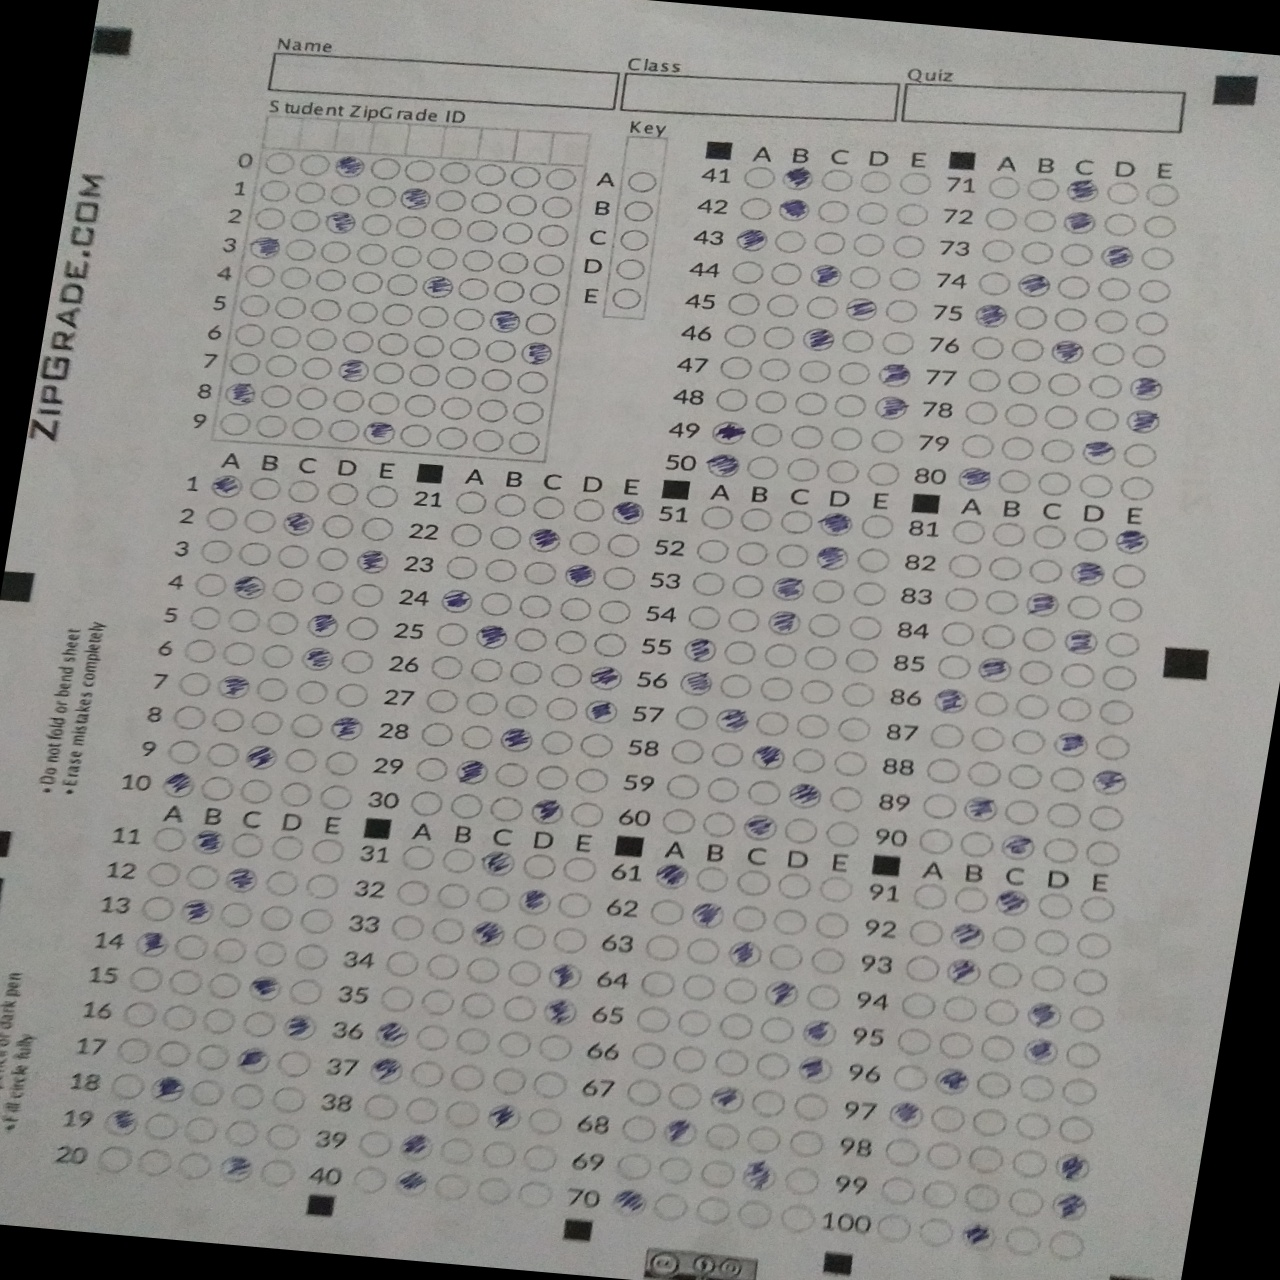not-c: (956, 1178, 1003, 1216), (620, 1073, 667, 1109), (610, 1148, 656, 1184), (999, 1223, 1046, 1259), (903, 915, 952, 949), (1063, 1002, 1114, 1035), (1001, 1184, 1048, 1219), (878, 1133, 925, 1169), (933, 1026, 980, 1061), (914, 1212, 958, 1250), (103, 1065, 149, 1101), (802, 979, 847, 1014), (890, 1023, 935, 1058), (1080, 835, 1125, 870), (468, 1173, 518, 1205), (433, 1135, 481, 1167), (782, 1126, 830, 1159), (774, 1201, 822, 1234), (872, 1207, 915, 1244), (93, 1141, 137, 1176), (874, 1172, 919, 1207), (440, 1097, 485, 1131), (747, 1085, 792, 1119), (1043, 1227, 1089, 1261), (513, 1177, 560, 1210), (1061, 1039, 1108, 1071), (897, 949, 944, 982), (109, 1032, 154, 1065), (346, 1160, 390, 1194), (642, 894, 687, 928), (1053, 1111, 1097, 1145), (1009, 1107, 1054, 1141), (1006, 1148, 1051, 1180), (966, 1105, 1012, 1138), (1068, 966, 1114, 999), (1027, 925, 1073, 958), (1092, 695, 1138, 728), (918, 1175, 959, 1211), (663, 734, 710, 765), (781, 1160, 823, 1196), (273, 1046, 316, 1080), (352, 1126, 395, 1160), (750, 1048, 794, 1082), (696, 1157, 740, 1191), (979, 1030, 1022, 1064), (518, 1141, 563, 1173), (824, 781, 869, 813), (938, 990, 982, 1023), (941, 550, 986, 583), (843, 611, 888, 642), (884, 1061, 930, 1092), (151, 1036, 193, 1070), (653, 1153, 695, 1187), (1080, 403, 1126, 434), (238, 1006, 281, 1039), (497, 992, 540, 1024), (358, 1088, 401, 1121), (634, 965, 678, 998), (756, 1012, 799, 1044), (626, 1039, 669, 1071), (733, 1197, 776, 1230), (470, 881, 515, 913), (896, 988, 940, 1020), (912, 824, 956, 856), (919, 753, 964, 784), (953, 430, 998, 462), (268, 1081, 309, 1115), (906, 880, 952, 911), (492, 1027, 535, 1060), (399, 1092, 441, 1125), (661, 768, 703, 801), (649, 1190, 692, 1223), (1058, 1074, 1101, 1107), (1051, 692, 1094, 724), (186, 1076, 230, 1108), (395, 842, 438, 873), (384, 911, 428, 942), (374, 981, 417, 1013), (450, 1024, 493, 1056), (524, 1104, 567, 1136), (709, 381, 753, 413), (728, 903, 771, 934), (769, 906, 812, 938), (615, 1112, 659, 1144), (730, 869, 775, 899), (944, 516, 988, 546), (791, 1090, 831, 1124), (165, 965, 206, 998), (192, 1039, 233, 1071), (257, 1156, 298, 1189), (673, 1005, 714, 1037), (922, 1138, 964, 1171), (877, 295, 922, 325), (261, 1121, 304, 1152), (549, 925, 591, 956), (702, 772, 744, 804), (656, 803, 699, 835), (821, 817, 863, 849), (668, 1042, 710, 1074), (692, 1194, 734, 1226), (964, 1143, 1006, 1175), (926, 1102, 968, 1133), (1015, 1073, 1057, 1104), (954, 829, 996, 860), (924, 719, 966, 750), (1092, 731, 1135, 763), (1016, 622, 1058, 654), (1128, 340, 1170, 372), (430, 1171, 474, 1201), (835, 327, 878, 358), (1101, 629, 1144, 660), (975, 620, 1019, 651), (1069, 524, 1112, 554), (1033, 467, 1076, 497), (229, 1080, 268, 1112), (222, 1117, 261, 1150), (712, 1046, 751, 1078), (965, 724, 1009, 754), (284, 975, 325, 1007), (120, 996, 161, 1028), (181, 1114, 222, 1145), (135, 1146, 176, 1178), (173, 1150, 215, 1182), (857, 510, 898, 542), (772, 870, 813, 901), (813, 910, 855, 941), (918, 789, 959, 821), (1002, 796, 1043, 828), (1043, 799, 1084, 831), (934, 651, 975, 682), (937, 617, 978, 648), (197, 1005, 239, 1035), (535, 1032, 577, 1062), (489, 1065, 531, 1096), (640, 932, 682, 962), (720, 975, 762, 1006), (702, 1121, 744, 1151), (742, 1124, 784, 1155), (1073, 930, 1115, 960), (1002, 760, 1044, 790), (1063, 591, 1105, 621), (965, 333, 1007, 363), (1107, 561, 1150, 591), (971, 267, 1014, 297), (666, 1080, 704, 1112), (143, 857, 183, 888), (141, 1109, 181, 1141), (382, 946, 422, 978), (418, 986, 458, 1017), (413, 1021, 452, 1053), (842, 644, 881, 675), (679, 971, 719, 1002), (716, 1009, 756, 1041), (988, 922, 1028, 954), (952, 884, 992, 915), (302, 871, 343, 901), (159, 1002, 200, 1033), (503, 958, 544, 988), (448, 1062, 489, 1092), (479, 1139, 520, 1170), (715, 350, 756, 381), (790, 388, 831, 418), (787, 421, 828, 451), (779, 815, 821, 845), (690, 864, 731, 894), (765, 941, 806, 972), (982, 995, 1023, 1026), (983, 960, 1024, 990), (1034, 891, 1075, 921), (1077, 893, 1118, 924), (964, 757, 1005, 788), (1014, 658, 1055, 688), (1029, 519, 1070, 550), (998, 433, 1039, 463), (1036, 436, 1077, 467), (1000, 399, 1041, 429), (457, 990, 499, 1020), (529, 1070, 571, 1099), (863, 459, 905, 489), (806, 945, 849, 974), (681, 935, 723, 965), (1046, 764, 1088, 794), (1056, 660, 1098, 689), (1098, 662, 1141, 692), (939, 584, 981, 613), (172, 930, 210, 962), (554, 888, 593, 920), (462, 953, 501, 985), (634, 1003, 673, 1035), (1051, 304, 1090, 335), (1104, 595, 1148, 624), (263, 866, 302, 897), (434, 879, 474, 910), (407, 1058, 447, 1089), (822, 455, 862, 485), (782, 452, 822, 483), (696, 501, 736, 531), (1085, 804, 1125, 835), (971, 688, 1010, 719), (1088, 338, 1128, 368), (258, 147, 299, 176), (268, 832, 309, 862), (560, 855, 601, 884), (756, 354, 797, 383), (829, 748, 870, 777), (743, 777, 784, 806), (816, 873, 857, 903), (973, 1070, 1014, 1099), (1024, 557, 1065, 586), (1005, 367, 1046, 396), (423, 949, 461, 981), (737, 162, 779, 190), (1084, 372, 1126, 400), (1142, 181, 1184, 209), (445, 333, 484, 363), (205, 969, 244, 1000), (892, 198, 931, 229), (708, 737, 747, 768), (700, 808, 738, 838), (1041, 836, 1080, 866), (1041, 400, 1080, 430), (1091, 306, 1130, 336), (1097, 210, 1141, 237), (392, 879, 431, 908), (427, 915, 467, 945), (509, 921, 549, 951), (867, 425, 907, 455), (837, 679, 877, 708), (753, 708, 792, 737), (988, 519, 1028, 549), (962, 396, 1002, 425), (1056, 239, 1096, 268), (1016, 238, 1056, 267), (233, 290, 274, 318), (573, 765, 614, 794), (518, 852, 559, 880), (896, 168, 937, 196), (726, 257, 767, 285), (794, 712, 835, 740), (985, 554, 1026, 583), (1043, 370, 1084, 399), (1131, 309, 1172, 338), (218, 899, 256, 930), (1077, 469, 1115, 499), (982, 203, 1020, 233), (719, 322, 761, 349), (567, 799, 606, 829), (292, 941, 331, 971), (257, 903, 295, 932), (1117, 472, 1156, 502), (229, 320, 268, 348), (888, 233, 928, 261), (884, 263, 924, 291), (801, 293, 840, 321), (829, 392, 869, 420), (1009, 728, 1049, 756), (1012, 692, 1051, 720), (1121, 441, 1160, 469), (1012, 302, 1051, 331), (1135, 277, 1175, 305), (983, 172, 1023, 200), (358, 210, 394, 240), (252, 937, 288, 967), (1094, 275, 1135, 302), (211, 937, 248, 966), (851, 230, 888, 259), (1138, 243, 1176, 272), (731, 538, 770, 566), (537, 728, 576, 756), (409, 789, 448, 817), (298, 907, 336, 935), (183, 863, 222, 891), (438, 846, 477, 874), (810, 229, 849, 257), (724, 288, 763, 316), (796, 356, 835, 384), (789, 745, 828, 774), (1028, 964, 1067, 992), (1054, 272, 1092, 300), (978, 236, 1016, 264), (1021, 206, 1060, 234), (1022, 173, 1061, 202), (735, 195, 775, 222), (981, 588, 1021, 615), (139, 894, 177, 922), (853, 199, 891, 227), (836, 715, 873, 743), (392, 212, 430, 239), (532, 222, 571, 248), (578, 731, 617, 758), (835, 359, 873, 386), (777, 508, 816, 535), (796, 678, 835, 704), (965, 366, 1003, 393), (878, 331, 918, 356), (401, 156, 437, 184), (302, 325, 339, 353), (253, 411, 290, 440), (744, 452, 781, 481), (508, 163, 545, 190), (509, 399, 546, 425), (469, 425, 506, 452), (333, 681, 370, 708), (772, 542, 810, 568), (768, 259, 805, 286), (845, 264, 883, 291), (737, 505, 775, 532), (817, 166, 856, 192), (760, 325, 798, 350), (1103, 179, 1142, 205), (127, 965, 162, 993), (749, 418, 784, 447), (472, 161, 509, 188), (436, 158, 472, 185), (498, 218, 535, 245), (423, 245, 459, 272), (526, 280, 563, 307), (415, 302, 451, 329), (451, 305, 488, 332), (522, 309, 558, 336), (293, 384, 329, 411), (366, 389, 402, 416), (402, 392, 438, 418), (299, 354, 335, 381), (263, 352, 299, 379), (216, 410, 252, 437), (505, 428, 542, 455), (411, 333, 448, 360), (488, 524, 524, 551), (284, 478, 320, 505), (448, 522, 484, 549), (324, 481, 360, 508), (433, 425, 469, 452), (444, 554, 481, 581), (606, 532, 642, 559), (695, 537, 731, 564), (512, 625, 549, 652), (434, 621, 470, 648), (592, 631, 628, 658), (810, 577, 846, 604), (225, 606, 261, 633), (294, 678, 331, 704), (183, 636, 219, 663), (855, 547, 891, 574), (802, 644, 838, 670), (762, 641, 798, 668), (721, 638, 757, 665), (464, 690, 501, 717), (502, 692, 538, 719), (674, 704, 710, 731), (318, 783, 354, 810), (237, 777, 273, 804), (489, 795, 525, 822), (284, 747, 320, 774), (204, 741, 240, 768), (763, 292, 799, 319), (753, 388, 789, 415), (431, 188, 469, 213), (503, 192, 540, 218), (612, 256, 649, 281), (396, 422, 434, 448), (857, 169, 894, 195), (1008, 336, 1046, 362), (282, 234, 316, 263), (318, 237, 352, 265), (1141, 215, 1179, 239), (459, 247, 495, 274), (273, 293, 308, 320), (308, 297, 343, 324), (483, 338, 518, 365), (331, 387, 366, 414), (513, 369, 549, 396), (247, 474, 282, 501), (275, 542, 311, 568), (241, 508, 277, 535), (319, 512, 354, 539), (570, 497, 605, 524), (492, 491, 527, 518), (365, 483, 400, 510), (204, 505, 239, 532), (270, 576, 305, 602), (478, 590, 513, 617), (558, 595, 593, 622), (687, 602, 722, 629), (730, 572, 765, 599), (192, 571, 227, 598), (339, 648, 374, 675), (260, 644, 295, 670), (248, 708, 284, 735), (493, 761, 529, 788), (535, 763, 570, 790), (418, 721, 454, 748), (469, 656, 504, 683), (547, 662, 583, 689), (257, 176, 293, 202), (292, 179, 328, 205), (463, 217, 499, 243), (493, 250, 530, 275), (240, 263, 277, 288), (455, 275, 491, 301), (617, 227, 653, 253), (379, 301, 415, 327), (475, 397, 511, 423), (478, 366, 515, 392), (226, 350, 263, 376), (443, 365, 479, 390), (406, 361, 442, 387), (198, 538, 234, 564), (236, 540, 272, 566), (358, 516, 394, 542), (530, 495, 566, 520), (452, 489, 489, 515), (326, 417, 362, 443), (314, 545, 350, 571), (257, 383, 293, 409), (566, 530, 602, 556), (600, 564, 636, 590), (343, 614, 380, 640), (552, 628, 588, 654), (482, 557, 518, 583), (522, 559, 558, 585), (726, 607, 762, 633), (265, 610, 301, 635), (851, 580, 887, 606), (211, 706, 247, 731), (176, 670, 212, 696), (413, 756, 449, 782), (543, 695, 579, 721), (198, 775, 234, 801), (278, 781, 314, 806), (449, 792, 485, 818), (815, 198, 851, 224), (772, 229, 809, 254), (828, 425, 864, 451), (995, 468, 1032, 493), (429, 215, 463, 241), (278, 264, 312, 291), (350, 268, 384, 295), (625, 168, 659, 195), (610, 284, 644, 311), (309, 578, 343, 605), (290, 712, 324, 738), (719, 672, 753, 699), (544, 166, 579, 192), (297, 151, 332, 177), (328, 182, 363, 207), (365, 183, 400, 209), (469, 189, 504, 215), (354, 240, 389, 266), (531, 251, 566, 277), (313, 267, 348, 293), (343, 299, 379, 325), (375, 331, 410, 356), (438, 395, 474, 421), (370, 359, 406, 384), (290, 414, 325, 440), (597, 598, 632, 624), (805, 612, 840, 638), (692, 570, 727, 595), (188, 604, 223, 629), (429, 654, 464, 680), (254, 676, 290, 702), (172, 704, 207, 730), (518, 592, 553, 618), (424, 687, 459, 713), (458, 724, 493, 750), (508, 659, 543, 685), (758, 676, 794, 702), (324, 749, 359, 775), (229, 832, 264, 858), (309, 838, 345, 864), (151, 826, 186, 852), (165, 738, 200, 764), (287, 207, 321, 233), (389, 243, 423, 268), (268, 324, 302, 349), (350, 581, 384, 607), (222, 640, 256, 666), (252, 205, 287, 230), (620, 198, 655, 223), (338, 329, 374, 353), (367, 156, 401, 181), (540, 195, 574, 219), (384, 272, 418, 297), (491, 278, 525, 302)
taken-c: (930, 1062, 976, 1097), (1046, 1187, 1092, 1223), (956, 1218, 1001, 1253), (737, 1157, 779, 1193), (1049, 1149, 1092, 1184), (686, 898, 729, 932), (760, 976, 803, 1010), (885, 1097, 928, 1131), (1088, 767, 1132, 799), (1019, 1035, 1063, 1068), (659, 1115, 701, 1149), (98, 1107, 142, 1139), (704, 1082, 748, 1115), (1048, 728, 1092, 760), (484, 1099, 525, 1133), (724, 937, 765, 971), (1024, 998, 1065, 1032), (468, 917, 510, 949), (608, 1186, 651, 1219), (794, 1051, 837, 1083), (942, 955, 986, 987), (799, 1016, 840, 1049), (931, 685, 972, 717), (177, 896, 219, 927), (145, 1074, 188, 1105), (215, 1153, 257, 1185), (365, 1055, 407, 1087), (990, 886, 1033, 918), (946, 919, 988, 951), (1065, 558, 1109, 588), (372, 1017, 411, 1050), (813, 542, 855, 573), (234, 1043, 275, 1075), (546, 960, 587, 992), (1013, 268, 1054, 300), (1060, 626, 1101, 658), (395, 1132, 437, 1163), (1061, 176, 1103, 206), (1122, 407, 1165, 436), (953, 464, 996, 493), (222, 863, 260, 896), (477, 847, 517, 879), (452, 756, 493, 787), (527, 796, 568, 826), (712, 704, 753, 735), (740, 811, 781, 842), (131, 928, 172, 959), (731, 225, 772, 256), (1126, 372, 1167, 402), (1022, 588, 1063, 619), (974, 654, 1015, 685), (961, 794, 1002, 824), (998, 832, 1039, 863), (651, 862, 693, 891), (870, 392, 912, 421), (608, 497, 648, 527), (496, 724, 536, 755), (749, 742, 789, 772), (784, 779, 824, 810), (245, 974, 285, 1005), (280, 1012, 320, 1042), (799, 324, 839, 354), (470, 621, 511, 651), (539, 998, 580, 1027), (1080, 438, 1121, 468), (707, 418, 749, 447), (1111, 527, 1153, 556), (328, 713, 367, 743), (297, 644, 336, 673), (515, 886, 554, 915), (1097, 241, 1137, 271), (971, 301, 1010, 331), (390, 1167, 431, 1196), (874, 361, 915, 389), (207, 471, 246, 501), (304, 611, 342, 640), (215, 670, 253, 700), (158, 770, 197, 799), (525, 525, 564, 554), (764, 607, 803, 636), (704, 450, 743, 479), (353, 547, 393, 576), (585, 663, 625, 692), (581, 696, 621, 724), (816, 510, 856, 538), (680, 636, 720, 665), (676, 669, 716, 697), (517, 338, 554, 367), (779, 164, 817, 193), (241, 744, 280, 772), (775, 196, 813, 224), (769, 576, 809, 602), (1060, 209, 1099, 236), (1047, 338, 1087, 365), (561, 560, 599, 588), (840, 297, 880, 322), (321, 207, 359, 234), (279, 509, 316, 536), (437, 587, 475, 614), (189, 828, 226, 855), (806, 263, 844, 290), (396, 186, 435, 212), (245, 234, 284, 260), (333, 358, 372, 383), (229, 573, 267, 599), (222, 380, 259, 406), (361, 420, 399, 445), (420, 273, 455, 300), (486, 308, 522, 335), (331, 154, 367, 179)
